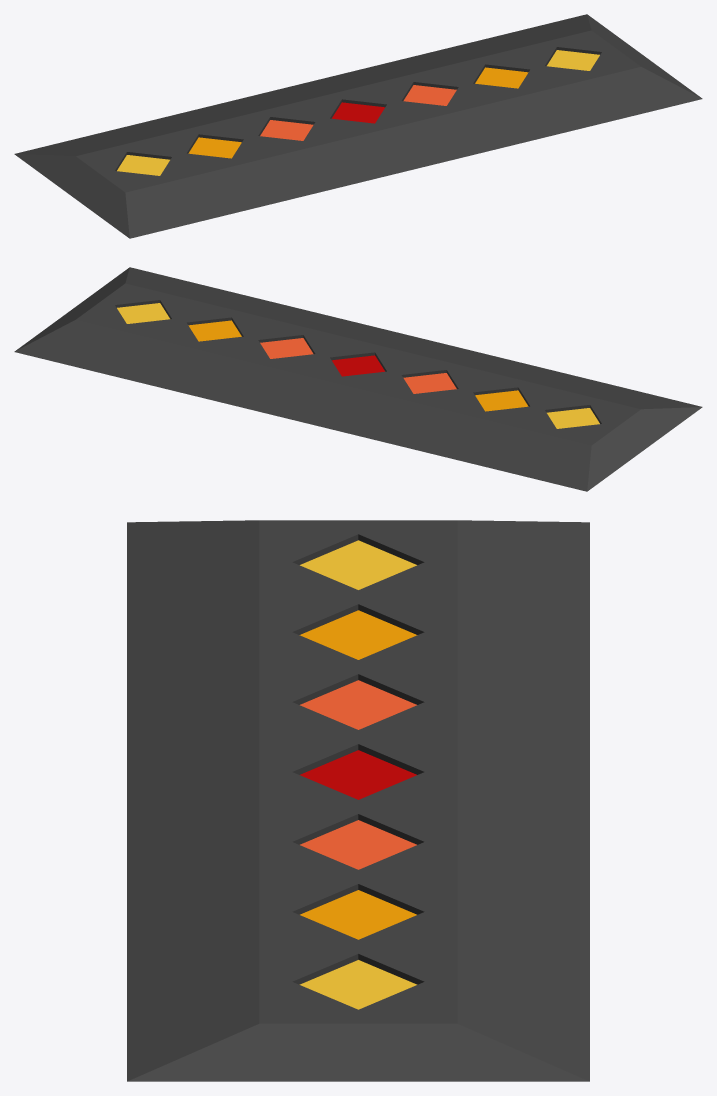
File: RolloverDiamonds.fbx
The picture shows the model from 3 angles, top to bottom: view 1: azimuth 30°, elevation 25°; view 2: azimuth 150°, elevation 25°; view 3: azimuth 270°, elevation 25°; orthographic projection. The views are drawn at different scales.
Parts seen in each view (by area): view 1: RolloverDiamonds; view 2: RolloverDiamonds; view 3: RolloverDiamonds.
Boxes of the visible parts, left/top/right/bottom form: RolloverDiamonds: left=14, top=14, right=702, bottom=238; RolloverDiamonds: left=14, top=267, right=702, bottom=491; RolloverDiamonds: left=127, top=520, right=589, bottom=1081.
Size of the model in its own units: 200 by 5 by 70.
